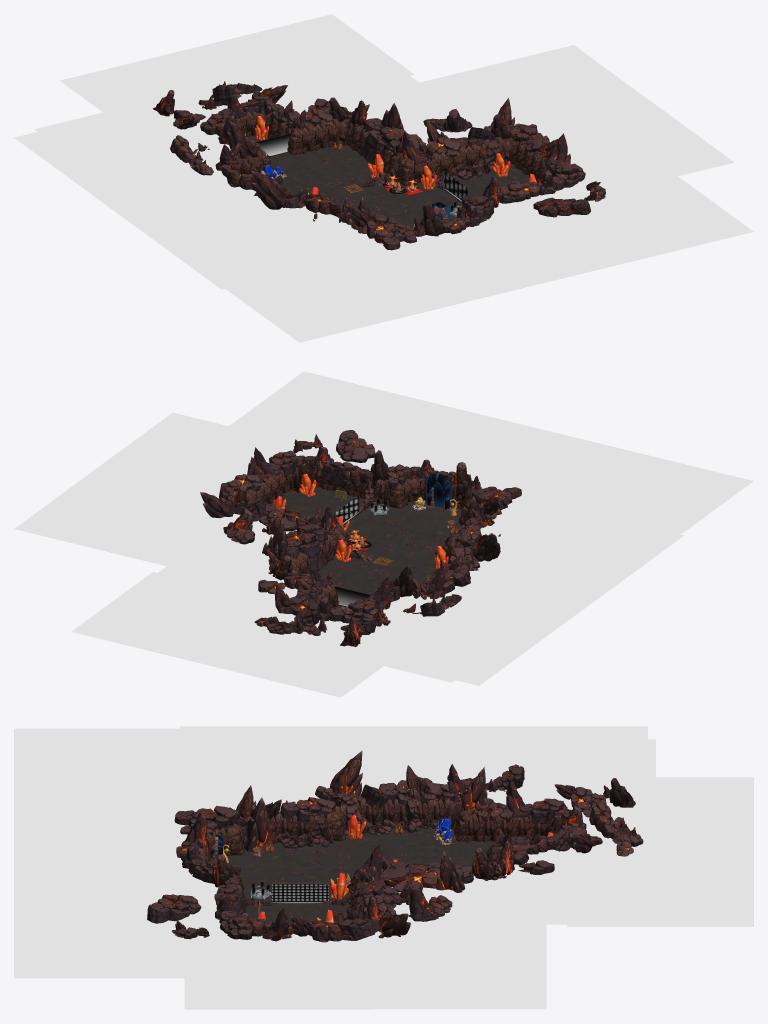
Rendered from LevelMap_1070110.glb.
3 views of the same model, one above another, from view 1: azimuth 30°, elevation 25°; view 2: azimuth 150°, elevation 25°; view 3: azimuth 270°, elevation 25° (orthographic). The views are drawn at different scales.
Parts seen in each view (by area): view 1: EnvCavern_Detail__Lava_8__u3786, EnvCavern_Detail__Lava_6__u5040, EnvCavern_Detail__Lava_5__u5138, EnvCavern_Detail__Lava__u2772, EnvCavern_Detail__Lava_4__u4946, EnvCavern_Detail__Lava_3__u3906, EnvCavern_Detail__Lava_7__u3489, EnvCavern_Detail__Lava_1__u3595, EnvCavern_Detail__Lava_2__u3530, LevelMap_1070110_Terrain__u4158, LevelMap_1070110_Terrain_2__u3565, LevelMap_1070110_Terrain_1__u3347 (+6 smaller); view 2: EnvCavern_Detail__Lava_8__u3786, EnvCavern_Detail__Lava_6__u5040, EnvCavern_Detail__Lava_5__u5138, EnvCavern_Detail__Lava__u2772, EnvCavern_Detail__Lava_4__u4946, EnvCavern_Detail__Lava_7__u3489, EnvCavern_Detail__Lava_1__u3595, EnvCavern_Detail__Lava_2__u3530, EnvCavern_Detail__Lava_3__u3906, LevelMap_1070110_Terrain_2__u3565, LevelMap_1070110_Terrain_1__u3347, LevelMap_1070110_Terrain__u4158 (+6 smaller); view 3: EnvCavern_Detail__Lava_8__u3786, EnvCavern_Detail__Lava__u2772, EnvCavern_Detail__Lava_6__u5040, EnvCavern_Detail__Lava_5__u5138, EnvCavern_Detail__Lava_4__u4946, EnvCavern_Detail__Lava_1__u3595, EnvCavern_Detail__Lava_3__u3906, EnvCavern_Detail__Lava_7__u3489, EnvCavern_Detail__Lava_2__u3530, LevelMap_1070110_Terrain_2__u3565, LevelMap_1070110_Terrain__u4158, EnvCavern_Detail__Rock___3__u3846 (+25 smaller).
Part boxes in pixels (<box>): EnvCavern_Detail__Lava_8__u3786: <box>216,171,753,342</box>; EnvCavern_Detail__Lava_6__u5040: <box>14,104,359,289</box>; EnvCavern_Detail__Lava_5__u5138: <box>60,14,414,135</box>; EnvCavern_Detail__Lava__u2772: <box>338,45,655,145</box>; EnvCavern_Detail__Lava_4__u4946: <box>537,102,734,192</box>; EnvCavern_Detail__Lava_3__u3906: <box>179,206,404,293</box>; EnvCavern_Detail__Lava_7__u3489: <box>484,173,691,268</box>; EnvCavern_Detail__Lava_1__u3595: <box>216,38,434,115</box>; EnvCavern_Detail__Lava_2__u3530: <box>34,94,230,189</box>; LevelMap_1070110_Terrain__u4158: <box>245,135,386,194</box>; LevelMap_1070110_Terrain_2__u3565: <box>309,174,452,227</box>; LevelMap_1070110_Terrain_1__u3347: <box>414,164,536,218</box>; EnvCavern_Detail__Lava_8__u3786: <box>222,371,753,539</box>; EnvCavern_Detail__Lava_6__u5040: <box>347,502,684,685</box>; EnvCavern_Detail__Lava_5__u5138: <box>71,572,419,697</box>; EnvCavern_Detail__Lava__u2772: <box>14,469,296,588</box>; EnvCavern_Detail__Lava_4__u4946: <box>91,412,313,498</box>; EnvCavern_Detail__Lava_7__u3489: <box>259,392,479,470</box>; EnvCavern_Detail__Lava_1__u3595: <box>107,550,297,643</box>; EnvCavern_Detail__Lava_2__u3530: <box>311,595,527,682</box>; EnvCavern_Detail__Lava_3__u3906: <box>480,484,676,578</box>; LevelMap_1070110_Terrain_2__u3565: <box>350,500,462,578</box>; LevelMap_1070110_Terrain_1__u3347: <box>270,487,395,537</box>; LevelMap_1070110_Terrain__u4158: <box>311,557,425,608</box>; EnvCavern_Detail__Lava_8__u3786: <box>14,728,200,978</box>; EnvCavern_Detail__Lava__u2772: <box>360,876,546,1009</box>; EnvCavern_Detail__Lava_6__u5040: <box>179,726,647,804</box>; EnvCavern_Detail__Lava_5__u5138: <box>567,777,753,926</box>; EnvCavern_Detail__Lava_4__u4946: <box>184,933,371,1009</box>; EnvCavern_Detail__Lava_1__u3595: <box>495,845,681,924</box>; EnvCavern_Detail__Lava_3__u3906: <box>144,739,331,818</box>; EnvCavern_Detail__Lava_7__u3489: <box>44,873,230,951</box>; EnvCavern_Detail__Lava_2__u3530: <box>469,739,655,818</box>; LevelMap_1070110_Terrain_2__u3565: <box>210,829,390,889</box>; LevelMap_1070110_Terrain__u4158: <box>390,824,494,867</box>; EnvCavern_Detail__Rock___3__u3846: <box>379,861,473,892</box>.
Size of the model in its own units: 79.19 by 9.76 by 87.5.
40 materials, 39 textured.
